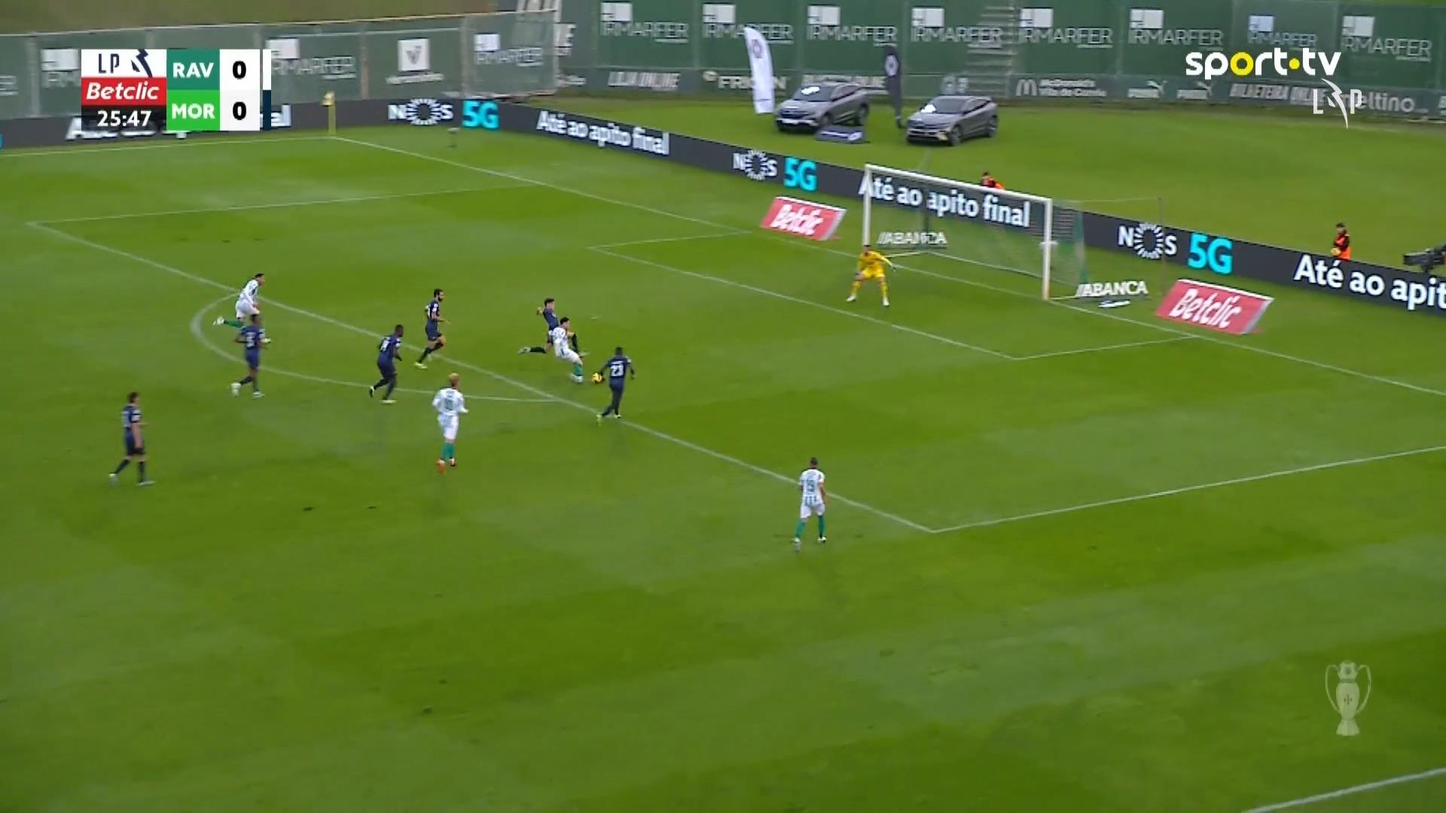ball: (591, 372, 603, 384)
goalkeeper: (844, 242, 897, 306)
player: (517, 296, 588, 383), (107, 390, 156, 486), (212, 271, 269, 343), (229, 309, 272, 398), (431, 372, 468, 473), (792, 455, 828, 551), (591, 345, 635, 423), (367, 323, 404, 403), (413, 288, 449, 369), (550, 315, 587, 383), (517, 297, 560, 354), (233, 272, 265, 324), (535, 297, 560, 348)
